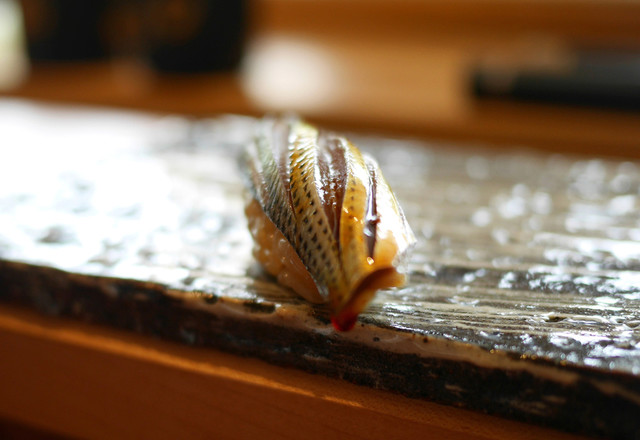spotted-shad: (235, 105, 420, 338)
